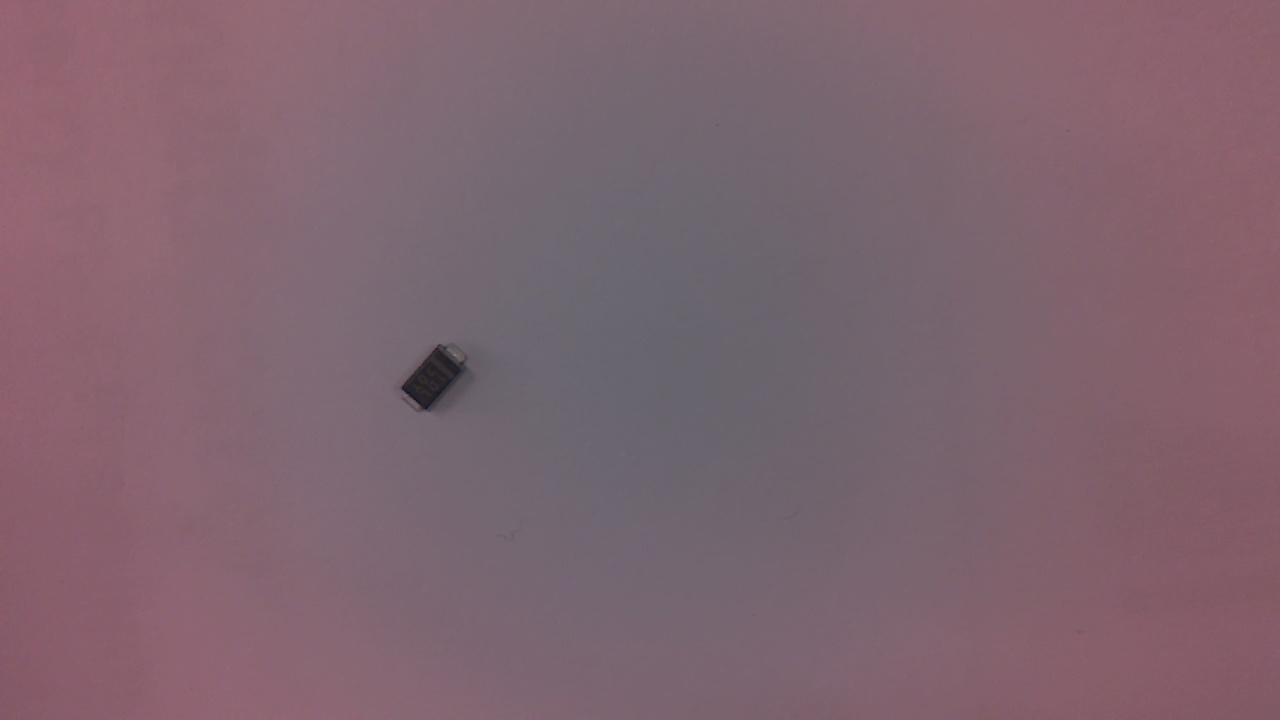Diode: (403, 344, 474, 420)
